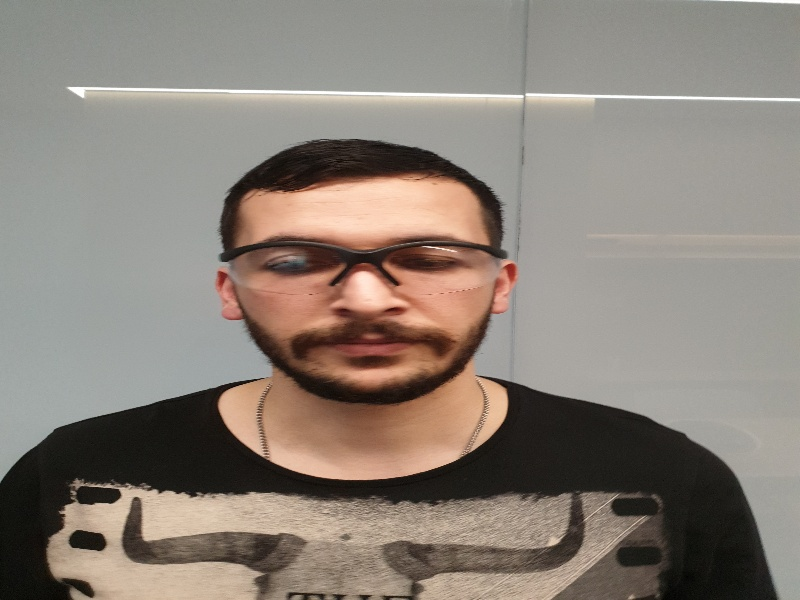Gozluk: (222, 239, 512, 293)
